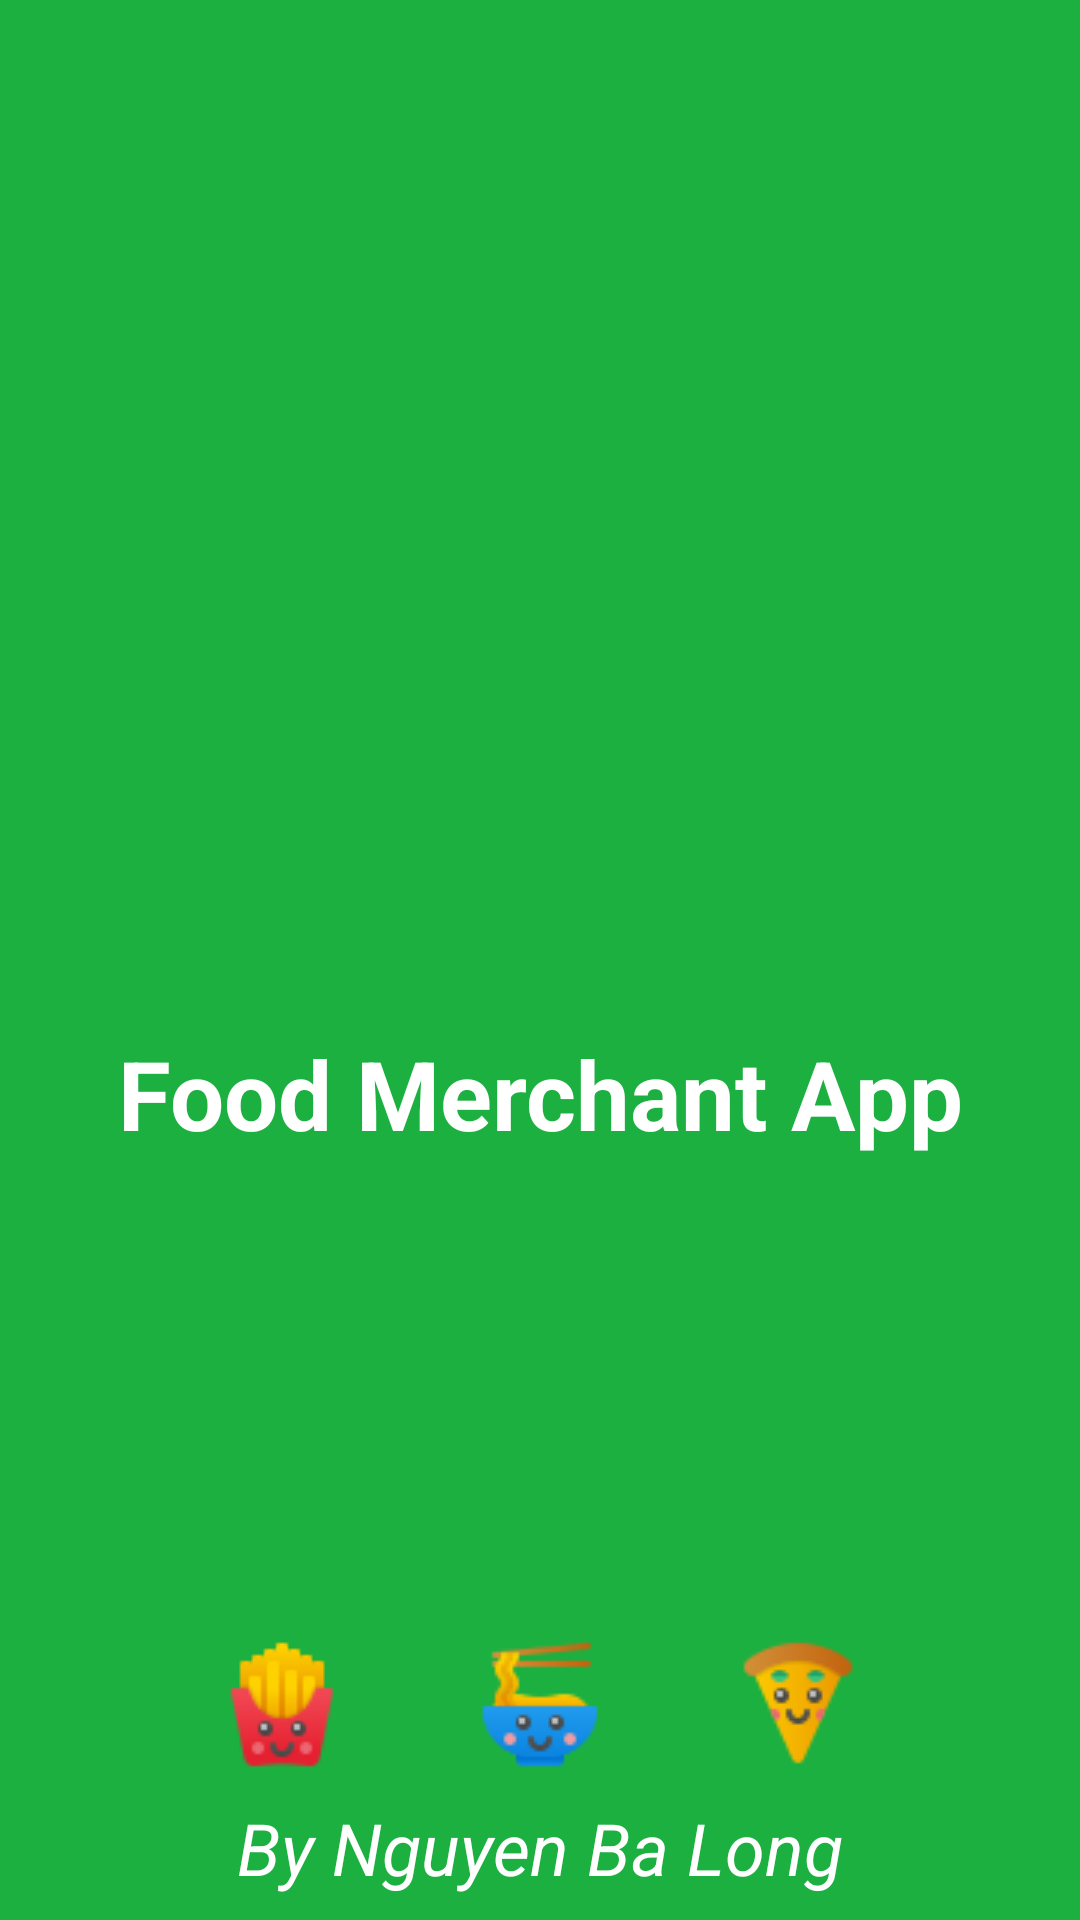

Locate icon controls on the screen. Image size 1080×1920, boxes as (x1, y1, x2, y2).
french fries: (230, 1642, 334, 1767)
noodle: (482, 1642, 598, 1767)
pizza: (743, 1642, 853, 1764)
